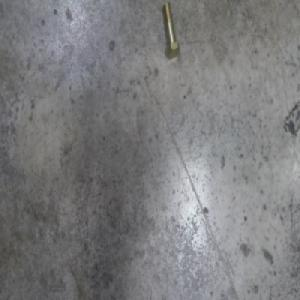Bolt: (161, 5, 178, 62)
